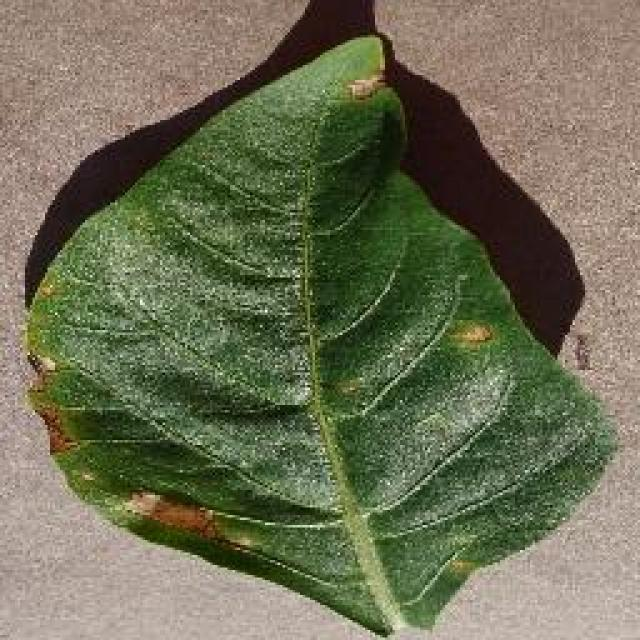Chilli_Bacterial_Spot: (18, 28, 620, 638), (20, 348, 78, 458), (120, 485, 222, 543), (342, 70, 390, 102), (453, 318, 495, 348), (22, 348, 60, 380), (32, 278, 58, 302)
